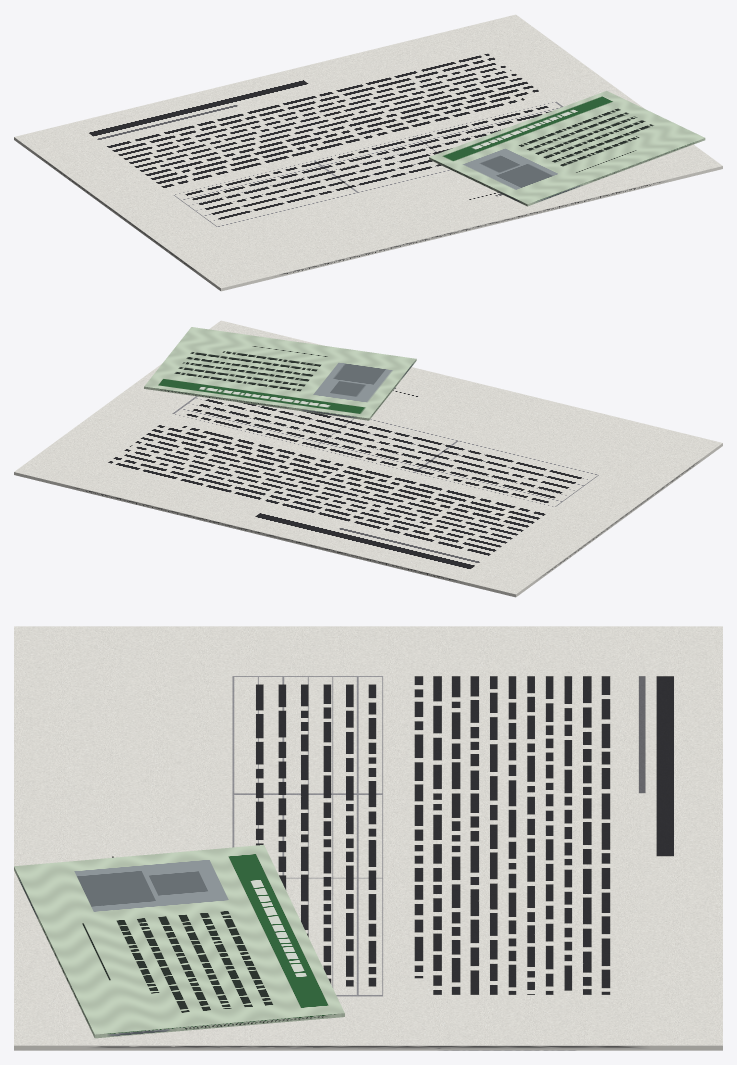
The model's file is doc_terceiro.glb.
3 renders of one model, top to bottom at view 1: azimuth 30°, elevation 25°; view 2: azimuth 150°, elevation 25°; view 3: azimuth 270°, elevation 25°, orthographic. The views are drawn at different scales.
Parts seen in each view (by area): view 1: Comprovante, Identidade; view 2: Comprovante, Identidade; view 3: Comprovante, Identidade.
Boxes of the visible parts, x1,y1,x2,y2 form: Comprovante: (14,14,722,291); Identidade: (429,90,705,206); Comprovante: (14,320,722,597); Identidade: (144,327,416,420); Comprovante: (14,626,722,1050); Identidade: (14,845,344,1038).
Bounding box in the file's own units: 0.2125 × 0.00495 × 0.15.
Materials: 2 (2 with a texture image).
